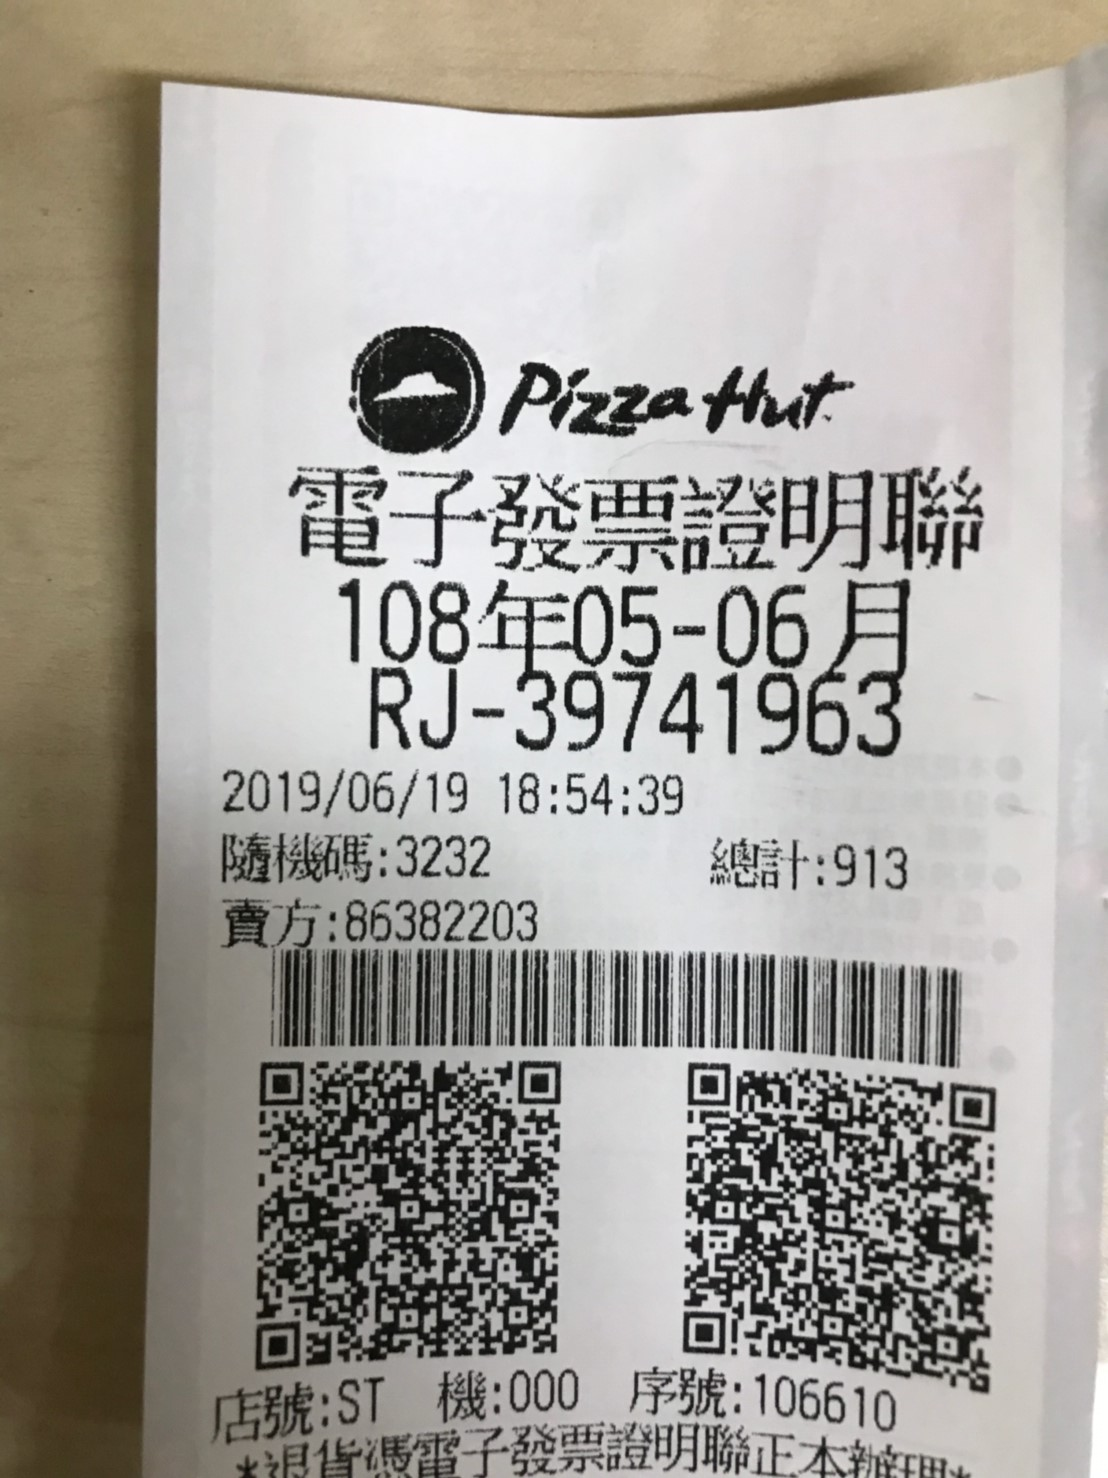Date_New: (329, 574, 911, 673)
Number_New: (514, 667, 904, 765)
